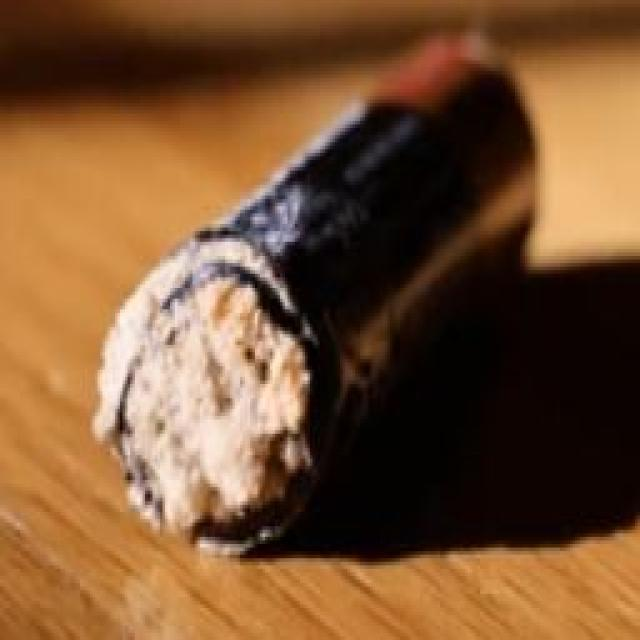electronic: (41, 25, 594, 586)
